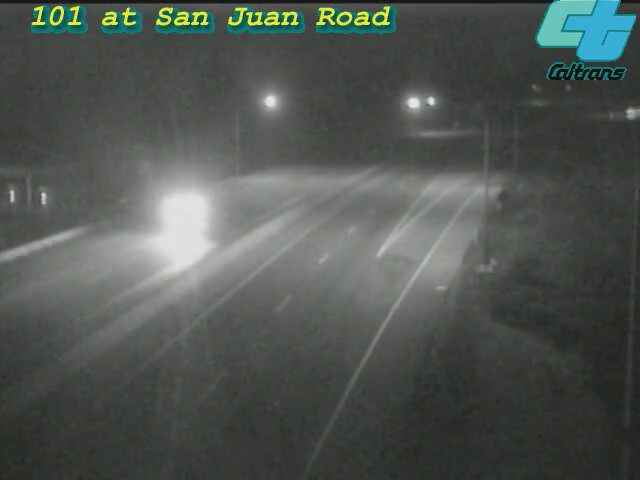vehicle: (144, 178, 224, 258), (607, 89, 640, 139)
